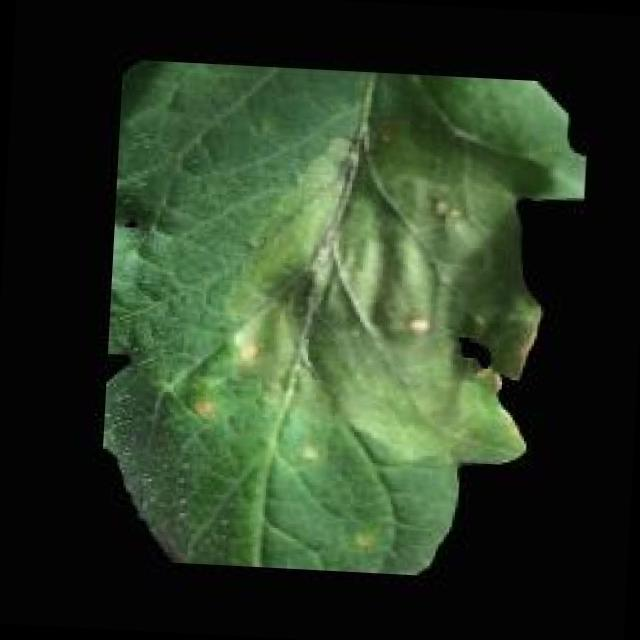Tomato_Late_Blight: (239, 136, 551, 430)
